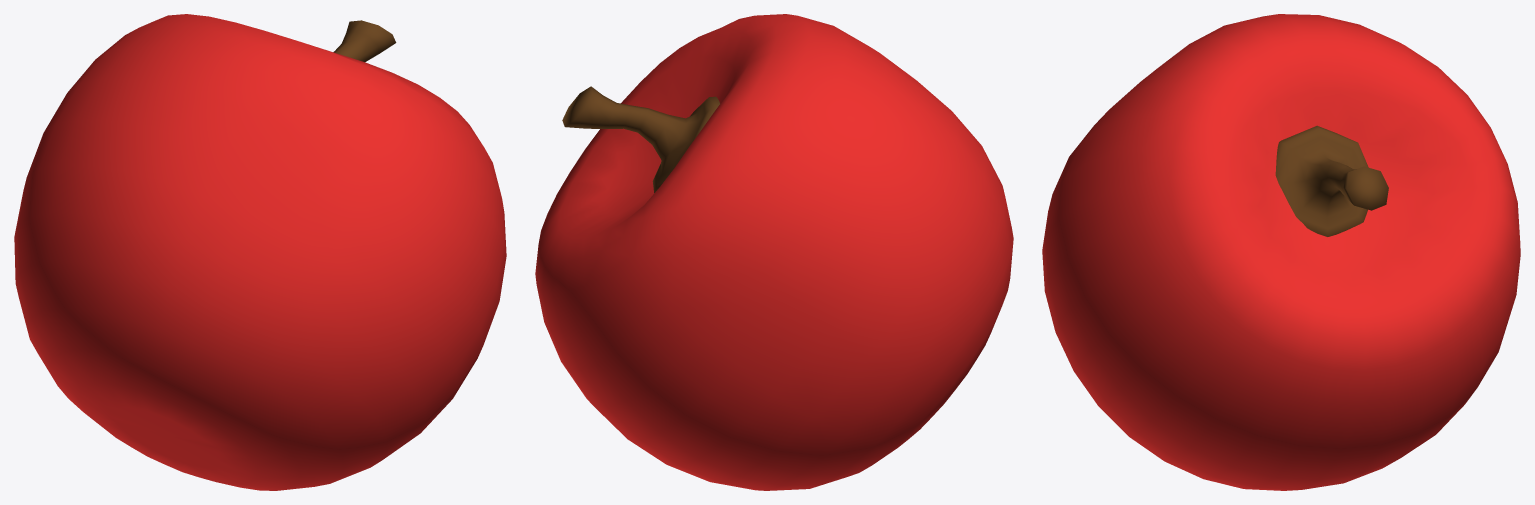
The model's file is market-apple1.fbx.
3 views of the same model, side by side, from view 1: azimuth 30°, elevation 25°; view 2: azimuth 150°, elevation 25°; view 3: azimuth 270°, elevation 25° (orthographic). The views are drawn at different scales.
Parts seen in each view (by area): view 1: apple-green.016; view 2: apple-green.016; view 3: apple-green.016.
Part boxes in pixels (x1,y1,x2,y2): apple-green.016: [14, 14, 506, 490]; apple-green.016: [535, 14, 1013, 490]; apple-green.016: [1042, 14, 1520, 490].
Size of the model in its own units: 26.8 by 26.53 by 26.7.
